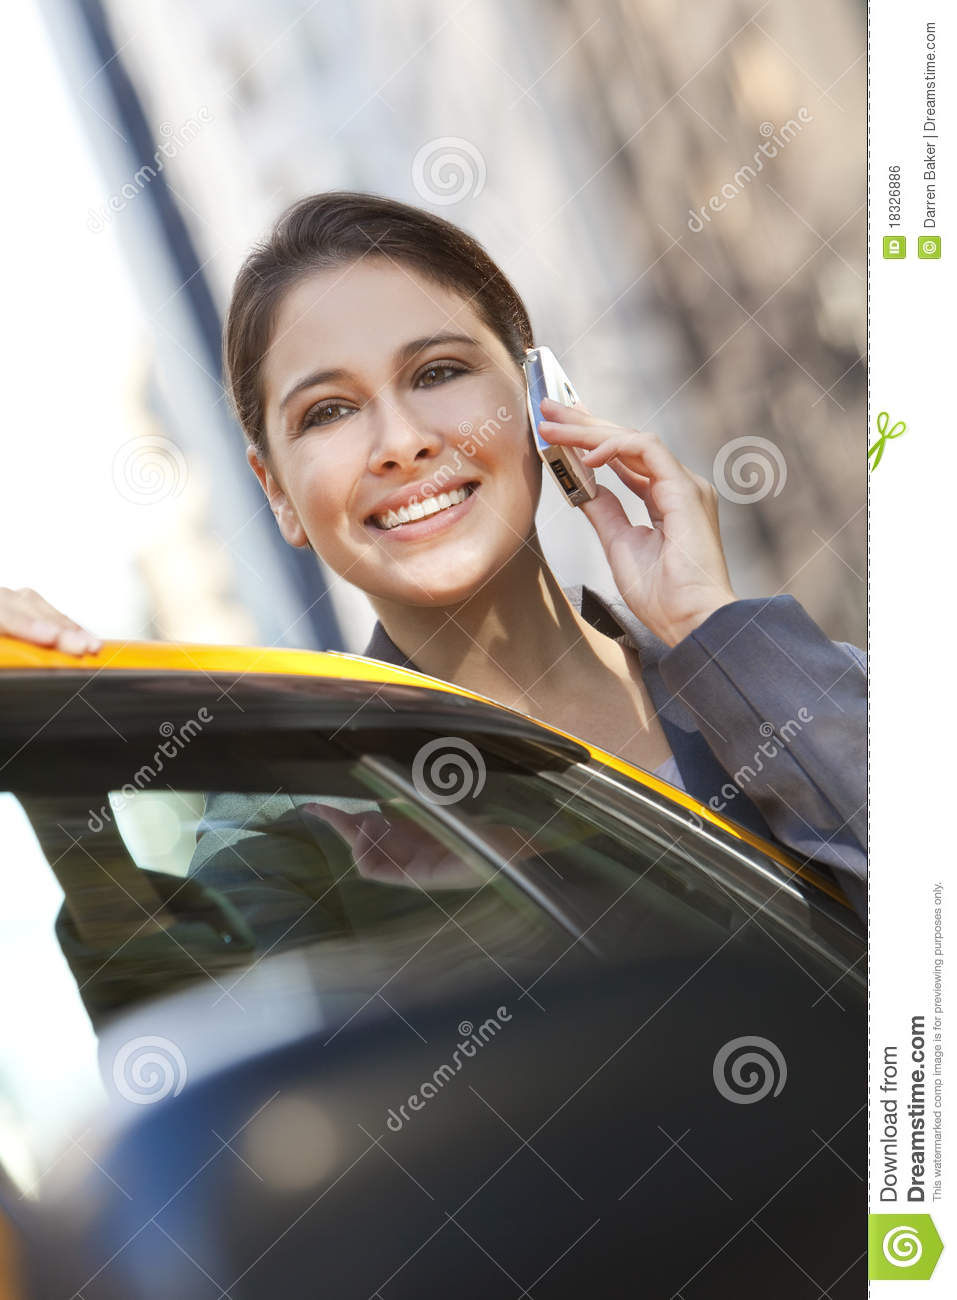phone: (520, 344, 597, 511)
talk: (268, 320, 731, 658)
